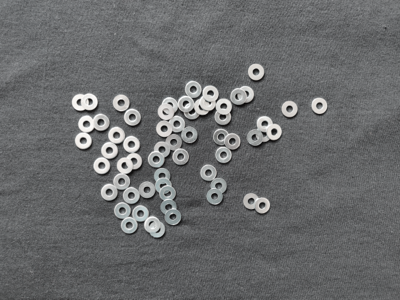circle: (248, 62, 266, 83), (255, 125, 274, 144), (111, 94, 130, 113), (123, 108, 143, 126), (206, 188, 224, 207), (210, 177, 229, 195), (238, 86, 256, 105), (82, 93, 100, 112), (93, 113, 111, 132), (78, 115, 97, 133), (75, 133, 94, 151), (243, 192, 260, 212), (200, 164, 218, 182), (256, 115, 274, 133), (185, 81, 203, 99), (148, 151, 166, 169), (94, 157, 112, 175), (114, 202, 132, 220), (247, 129, 264, 148), (230, 87, 247, 106), (171, 149, 190, 166), (73, 94, 90, 113), (107, 126, 126, 143), (113, 173, 132, 190), (254, 197, 271, 215), (162, 97, 179, 115), (165, 209, 183, 226), (101, 141, 118, 159), (126, 153, 144, 170), (117, 157, 134, 175), (101, 184, 119, 201), (123, 186, 140, 204), (138, 182, 156, 199), (160, 200, 179, 216), (150, 221, 166, 240), (215, 109, 232, 126), (200, 95, 217, 112), (181, 127, 198, 144), (154, 168, 171, 185), (124, 136, 141, 153), (311, 98, 329, 114), (282, 100, 298, 118), (225, 133, 241, 151), (202, 86, 220, 102), (195, 99, 211, 117), (185, 102, 201, 120), (169, 116, 185, 134), (153, 142, 171, 158), (158, 186, 176, 202), (215, 99, 234, 114), (267, 124, 283, 141), (213, 129, 229, 146), (216, 148, 232, 165), (178, 96, 195, 112), (156, 121, 172, 138), (166, 135, 183, 151), (156, 179, 173, 195), (132, 206, 149, 222), (145, 217, 161, 233), (122, 218, 138, 234), (158, 105, 175, 120)
